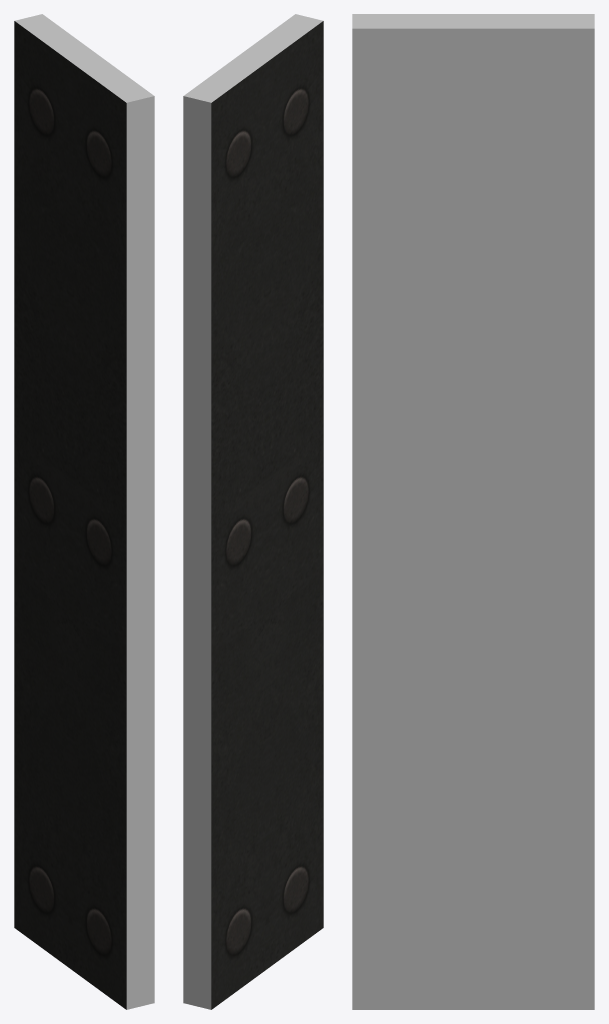
The model's file is SM_Connect01G.fbx.
3 renders of one model, left to right at view 1: azimuth 30°, elevation 25°; view 2: azimuth 150°, elevation 25°; view 3: azimuth 270°, elevation 25°, orthographic. The views are drawn at different scales.
Parts seen in each view (by area): view 1: SM_Connect01G; view 2: SM_Connect01G; view 3: SM_Connect01G.
Part boxes in pixels (box(x1,y1,x2,y2)): SM_Connect01G: box(14, 14, 154, 1009); SM_Connect01G: box(183, 14, 323, 1009); SM_Connect01G: box(352, 14, 594, 1009).
Size of the model in its own units: 0.5946 by 4.12 by 18.42.
